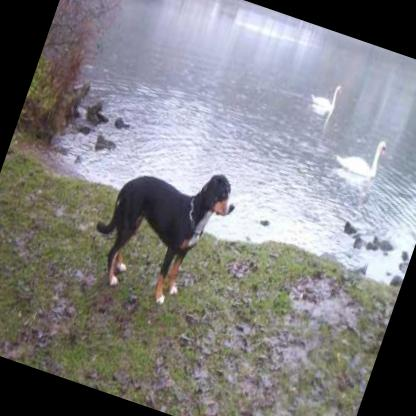EntleBucher: (75, 136, 244, 316)
